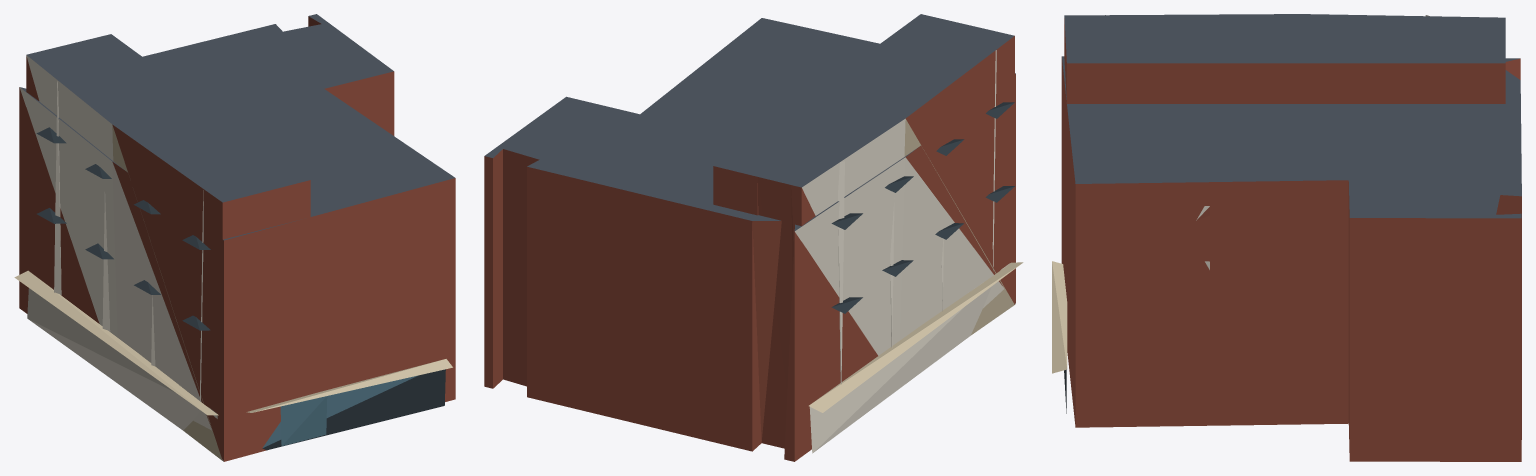
The model's file is cinecenter.lod2.glb.
The picture shows the model from 3 angles, left to right: view 1: azimuth 30°, elevation 25°; view 2: azimuth 150°, elevation 25°; view 3: azimuth 270°, elevation 25°; orthographic projection. The views are drawn at different scales.
Parts seen in each view (by area): view 1: lod2; view 2: lod2; view 3: lod2.
Boxes of the visible parts, box(x1,y1,x2,y2) form: lod2: box(14, 14, 455, 461); lod2: box(484, 14, 1023, 461); lod2: box(1052, 14, 1521, 461).
Bounding box in the file's own units: 26.1 × 20.55 × 30.77.
